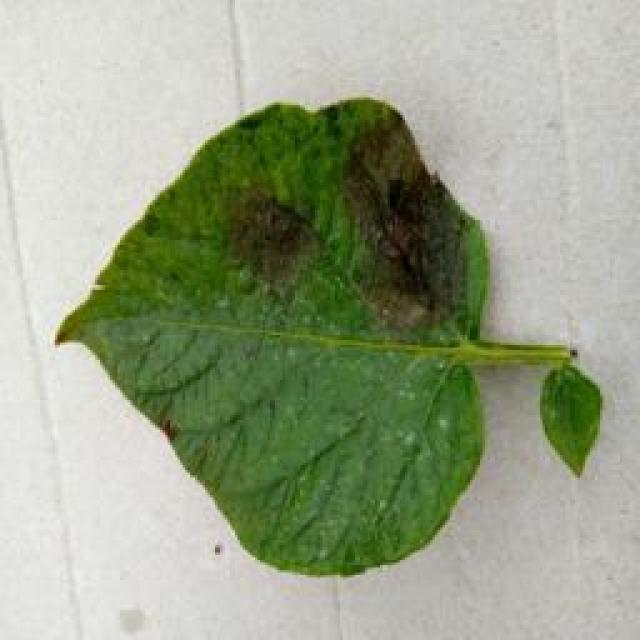late_blight: (50, 92, 495, 580)
